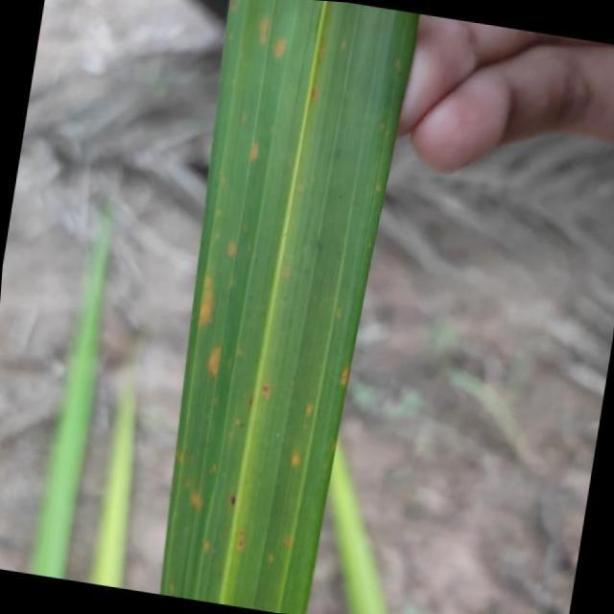Kalium: (163, 0, 424, 614)
